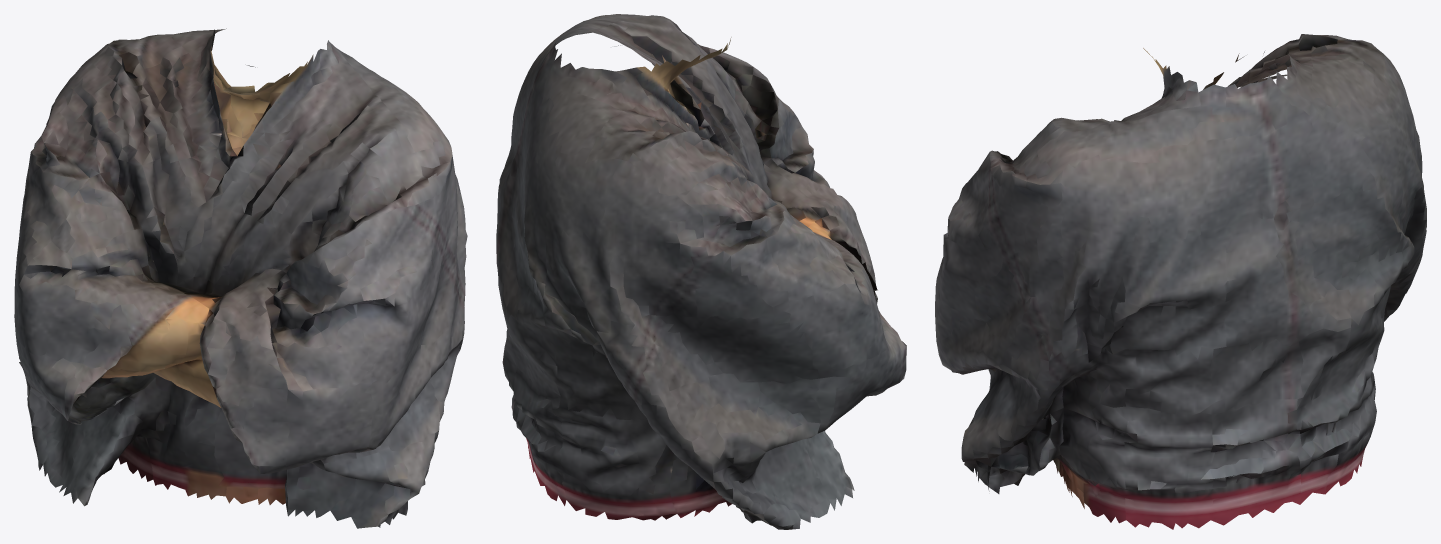
File: nagase_torso.glb
3 views of the same model, side by side, from view 1: azimuth 30°, elevation 25°; view 2: azimuth 150°, elevation 25°; view 3: azimuth 270°, elevation 25° (orthographic). The views are drawn at different scales.
Parts seen in each view (by area): view 1: torso; view 2: torso; view 3: torso.
Part boxes in pixels (x1,y1,x2,y2): torso: (14, 28, 467, 528); torso: (496, 14, 906, 529); torso: (935, 34, 1426, 529).
Size of the model in its own units: 7.21 by 7.21 by 7.54.
1 material, 1 textured.
